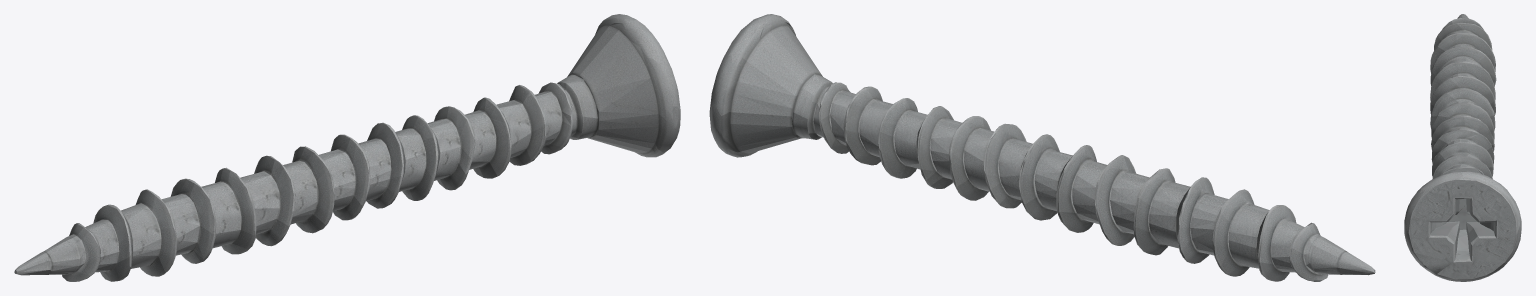
The model's file is screw.glb.
The picture shows the model from 3 angles, left to right: view 1: azimuth 30°, elevation 25°; view 2: azimuth 150°, elevation 25°; view 3: azimuth 270°, elevation 25°; orthographic projection. The views are drawn at different scales.
Visible parts, largest first — view 1: output_unwrapped; view 2: output_unwrapped; view 3: output_unwrapped.
Part boxes in pixels (box(x1,y1,x2,y2)): output_unwrapped: box(14, 14, 680, 281); output_unwrapped: box(709, 14, 1375, 281); output_unwrapped: box(1404, 14, 1521, 281).
Bounding box in the file's own units: 1.9 × 0.3869 × 0.3859.
1 material, 1 textured.
